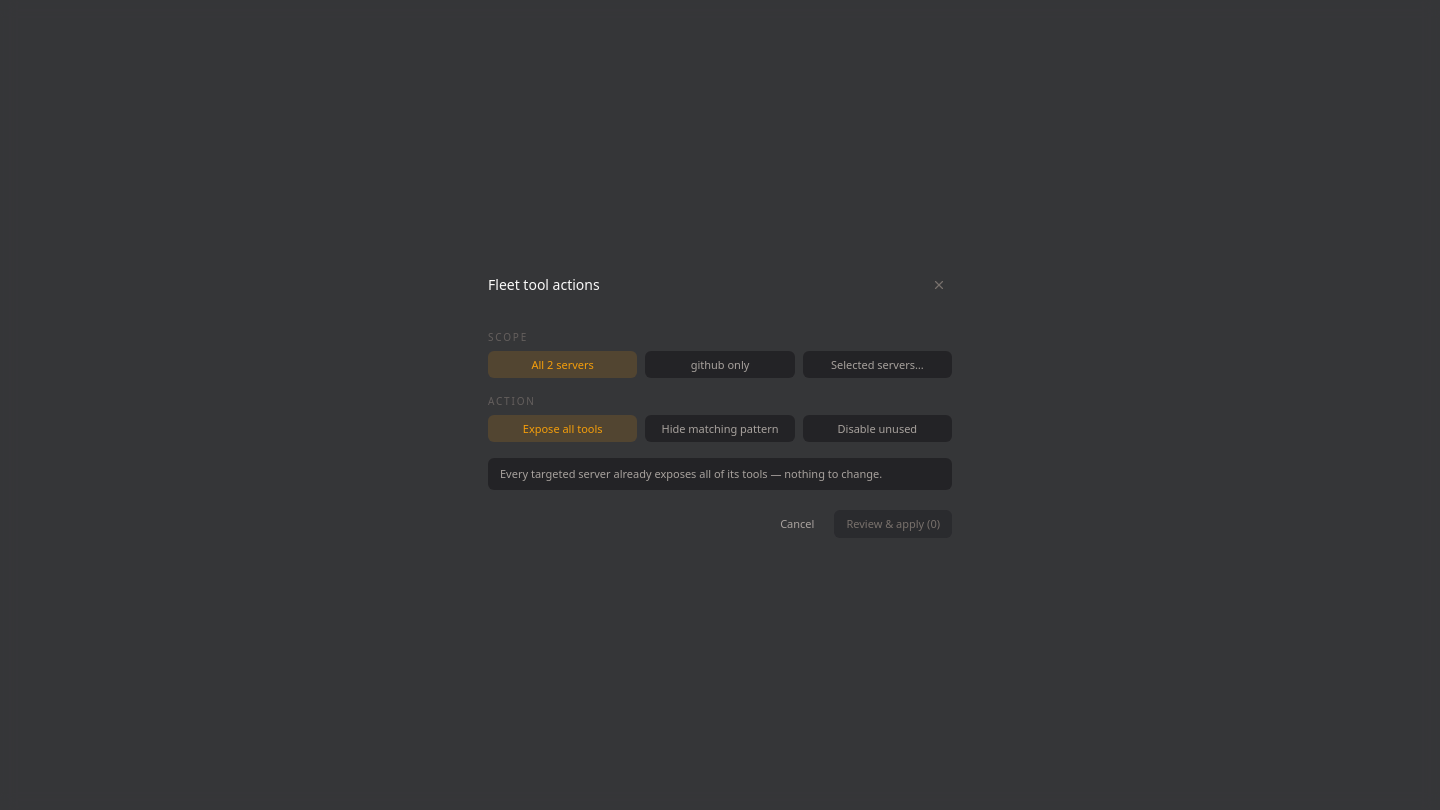
Test: FleetActions › plans disable-unused with a blocked server and the observedSince caveat
Click the button "Disable unused".
click(877, 428)  # box 803,415 -> 952,442
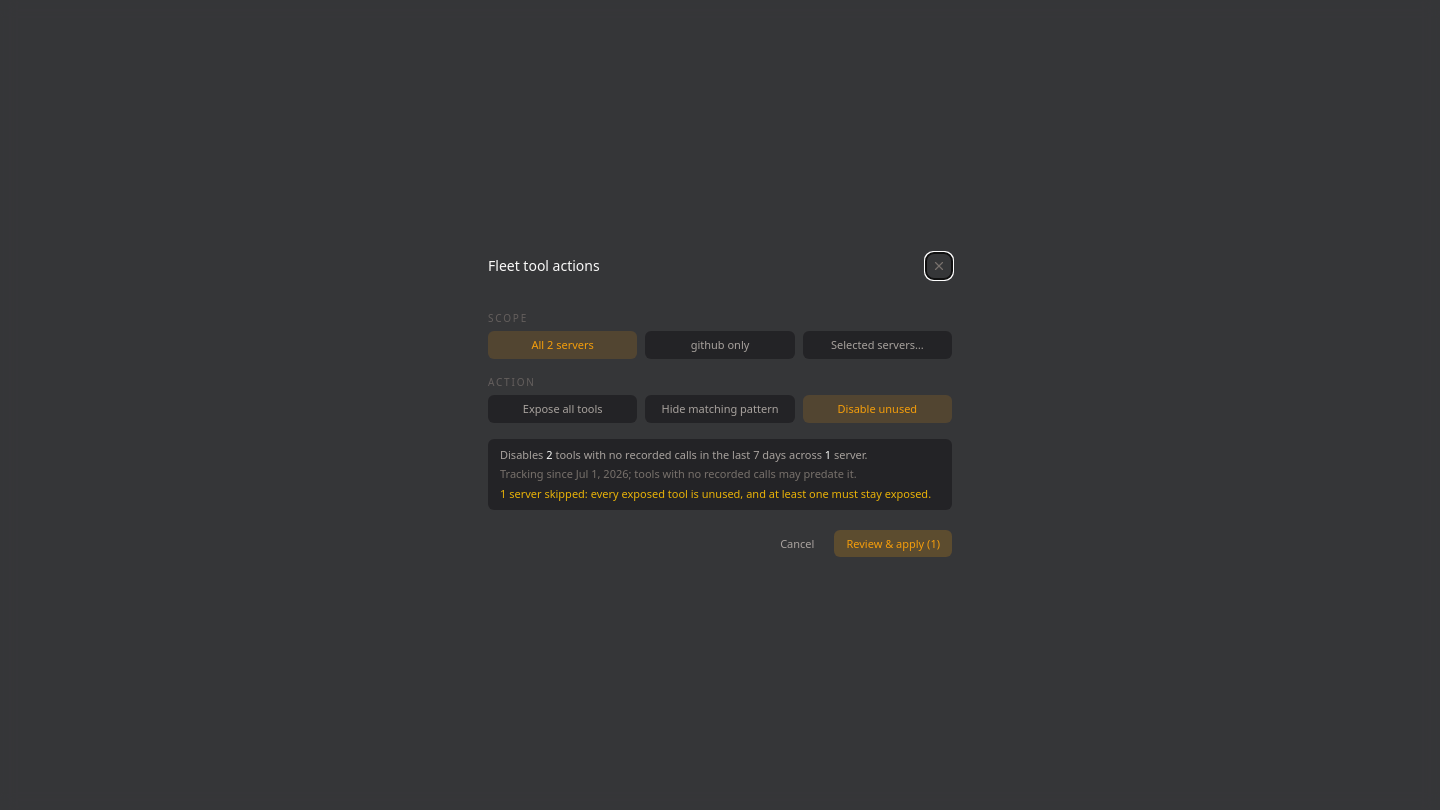
Now the text "Disables" shows "Disables 2 tools with no recorded calls in the last 7 days across 1 server", box 500,447 -> 868,462
Now the text "1 server skipped" shows "every exposed tool is unused", box 591,486 -> 931,501
Now the text "Tracking since" is shown, box 500,466 -> 576,481
